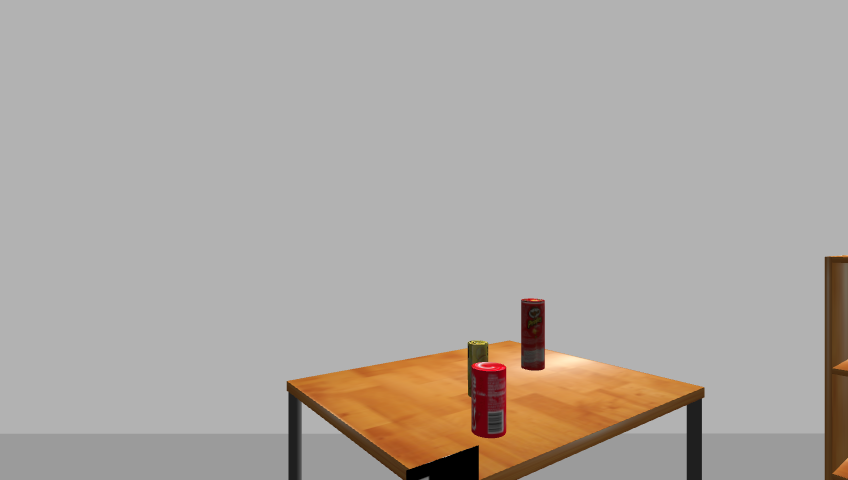aruco marker: (402, 446, 484, 480)
biscuits pack: (467, 339, 489, 398)
bookshelf: (820, 257, 848, 480)
coke can: (469, 363, 509, 439)
dinner table: (276, 347, 714, 480)
pringles can: (517, 298, 548, 373)
